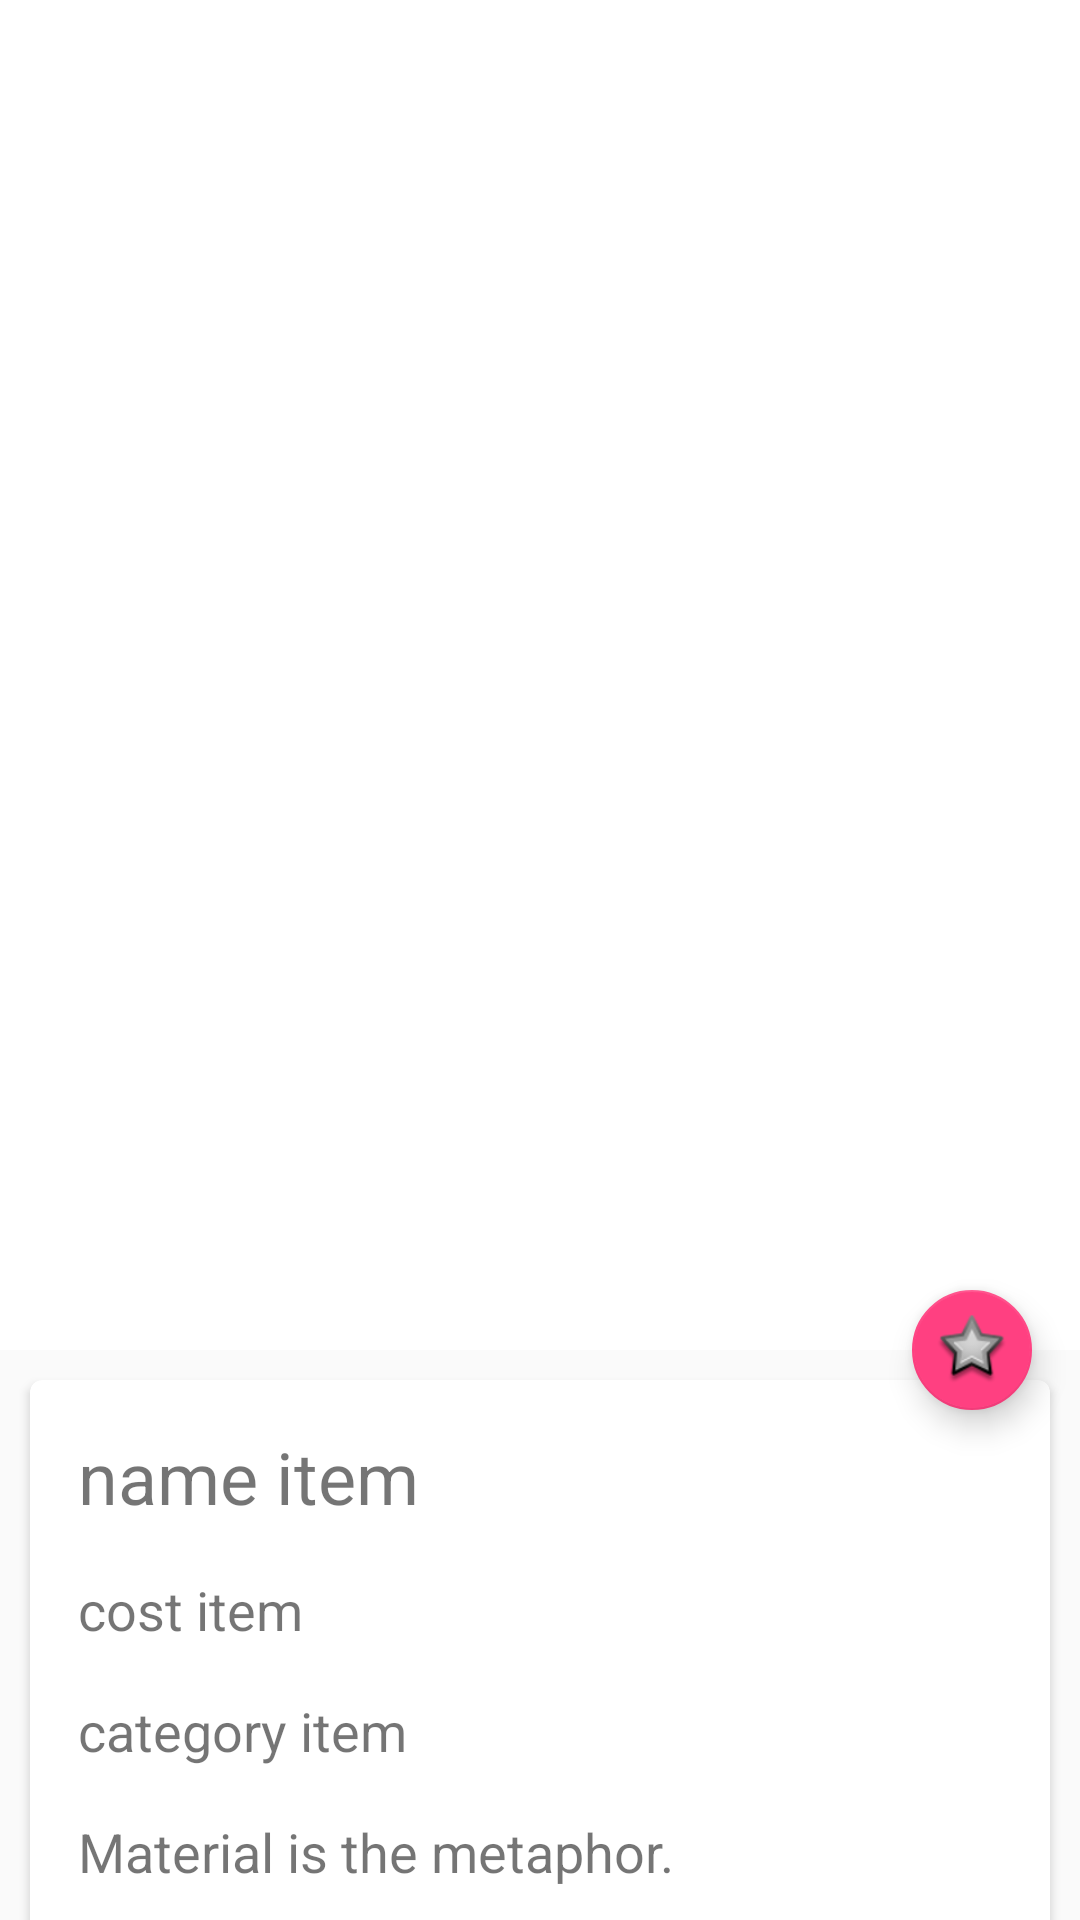

Screen size 1080w x 1920h. Icon name, then its center in pixels as (x,y):
star off: (972,1350)
